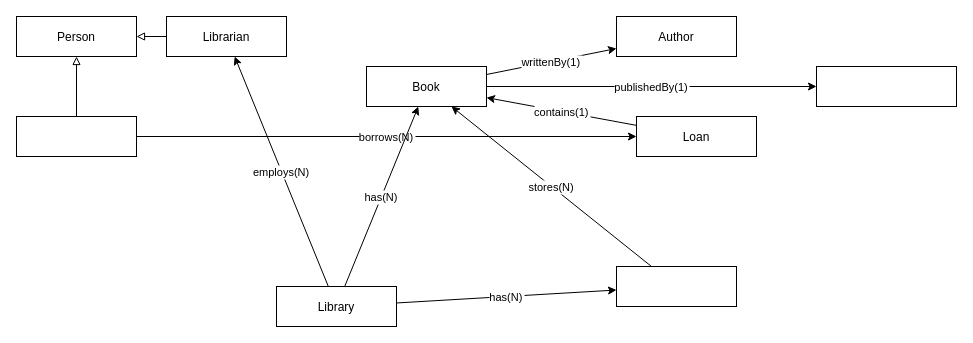
The diagram is 973 pixels wide and 343 high, and some of its shapes have lost their labels. Each missing label, with the centre of its shape:
Member: pixel 76 136
Publisher: pixel 886 86
Shelf: pixel 676 286
